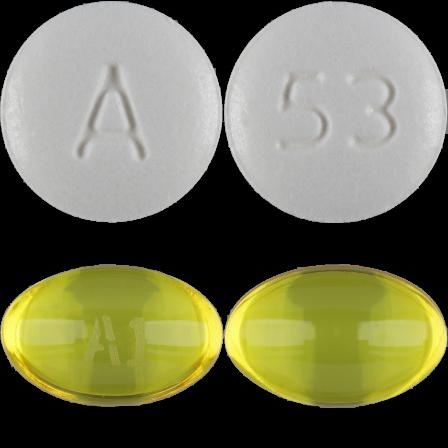42291-162: (0, 0, 224, 224)
